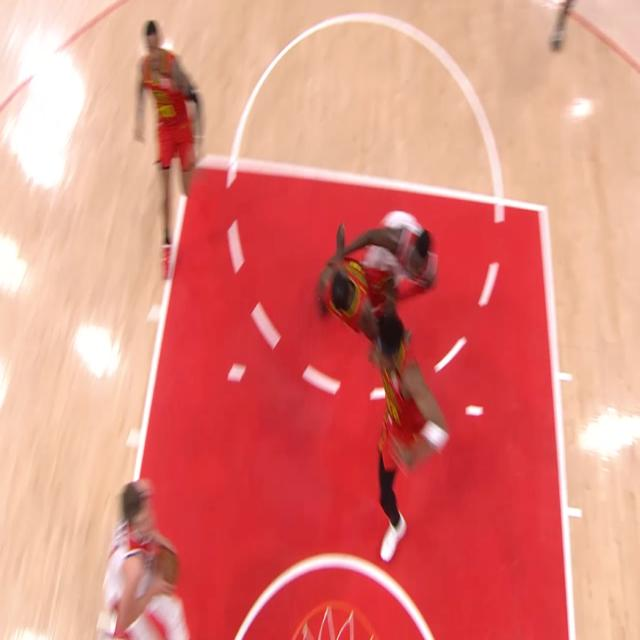Foul: (322, 202, 433, 323)
